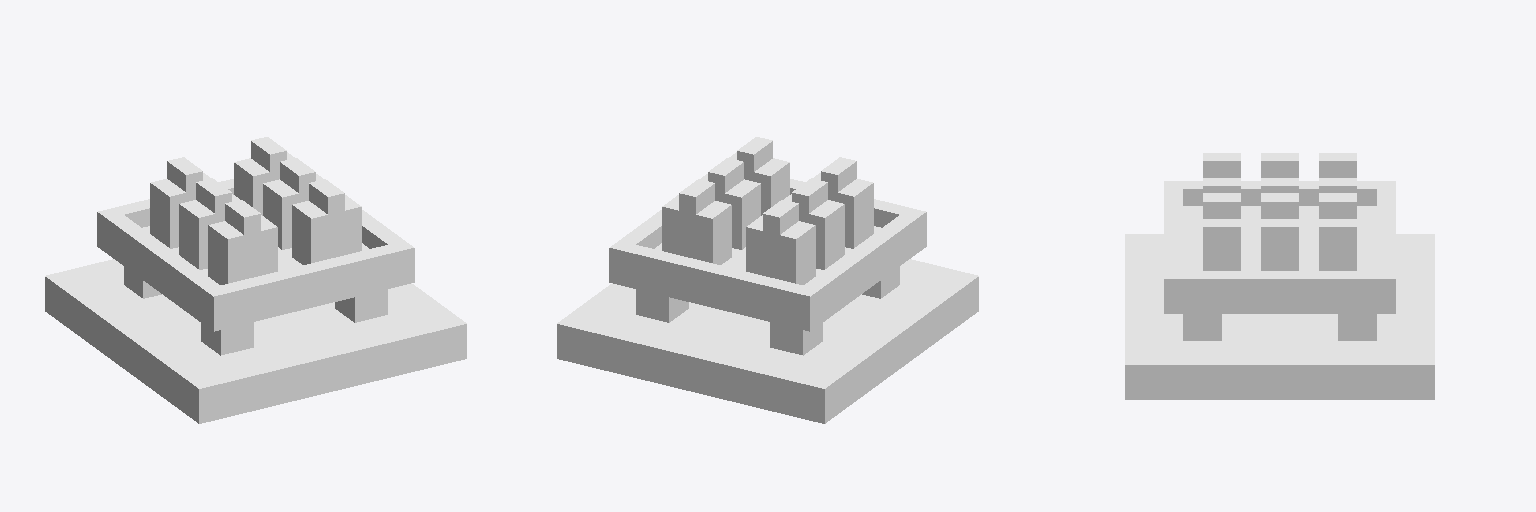
The model's file is housing.obj.
3 views of the same model, side by side, from view 1: azimuth 30°, elevation 25°; view 2: azimuth 150°, elevation 25°; view 3: azimuth 270°, elevation 25° (orthographic).
Visible parts, largest first — view 1: object 1; view 2: object 1; view 3: object 1.
Boxes of the visible parts, box(x1,y1,x2,y2) form: object 1: box(45, 137, 466, 423); object 1: box(557, 137, 978, 423); object 1: box(1125, 153, 1434, 399).
Size of the model in its own units: 1.6 by 0.9 by 1.6.